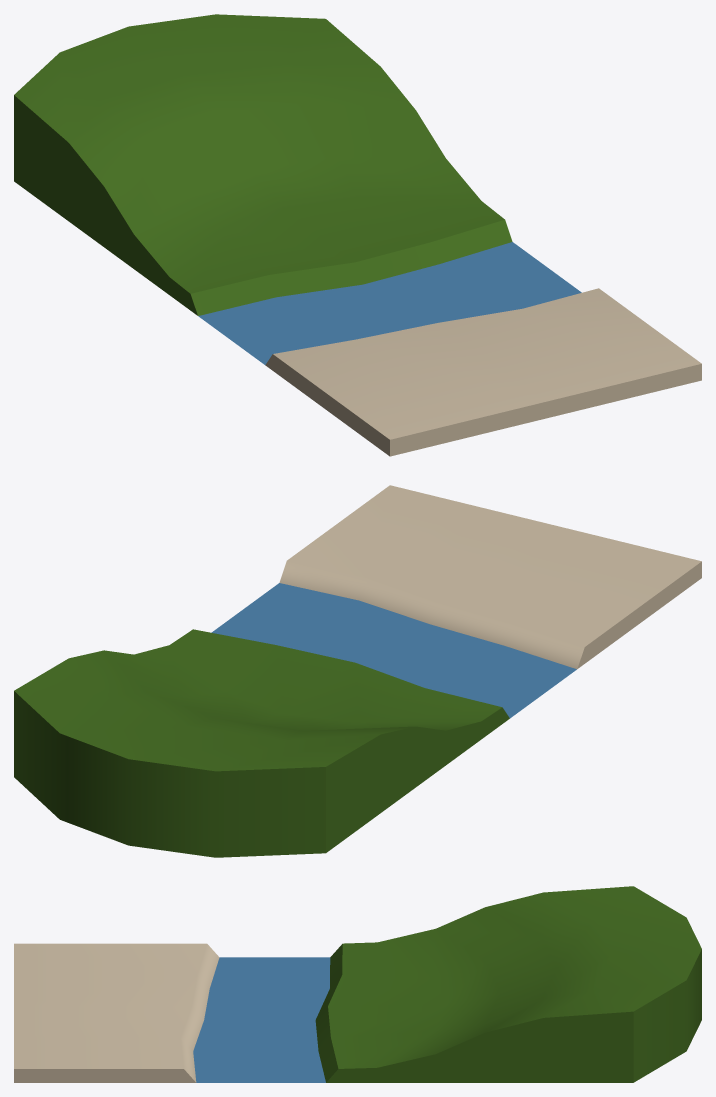
Rendered from Ground_Wire.fbx.
3 renders of one model, top to bottom at view 1: azimuth 30°, elevation 25°; view 2: azimuth 150°, elevation 25°; view 3: azimuth 270°, elevation 25°, orthographic. The views are drawn at different scales.
Parts seen in each view (by area): view 1: pPlane1; view 2: pPlane1; view 3: pPlane1.
Boxes of the visible parts, bbox=[...] form: pPlane1: bbox=[14, 14, 701, 456]; pPlane1: bbox=[14, 485, 701, 857]; pPlane1: bbox=[14, 886, 701, 1082].
Bounding box in the file's own units: 210 × 55.58 × 487.
